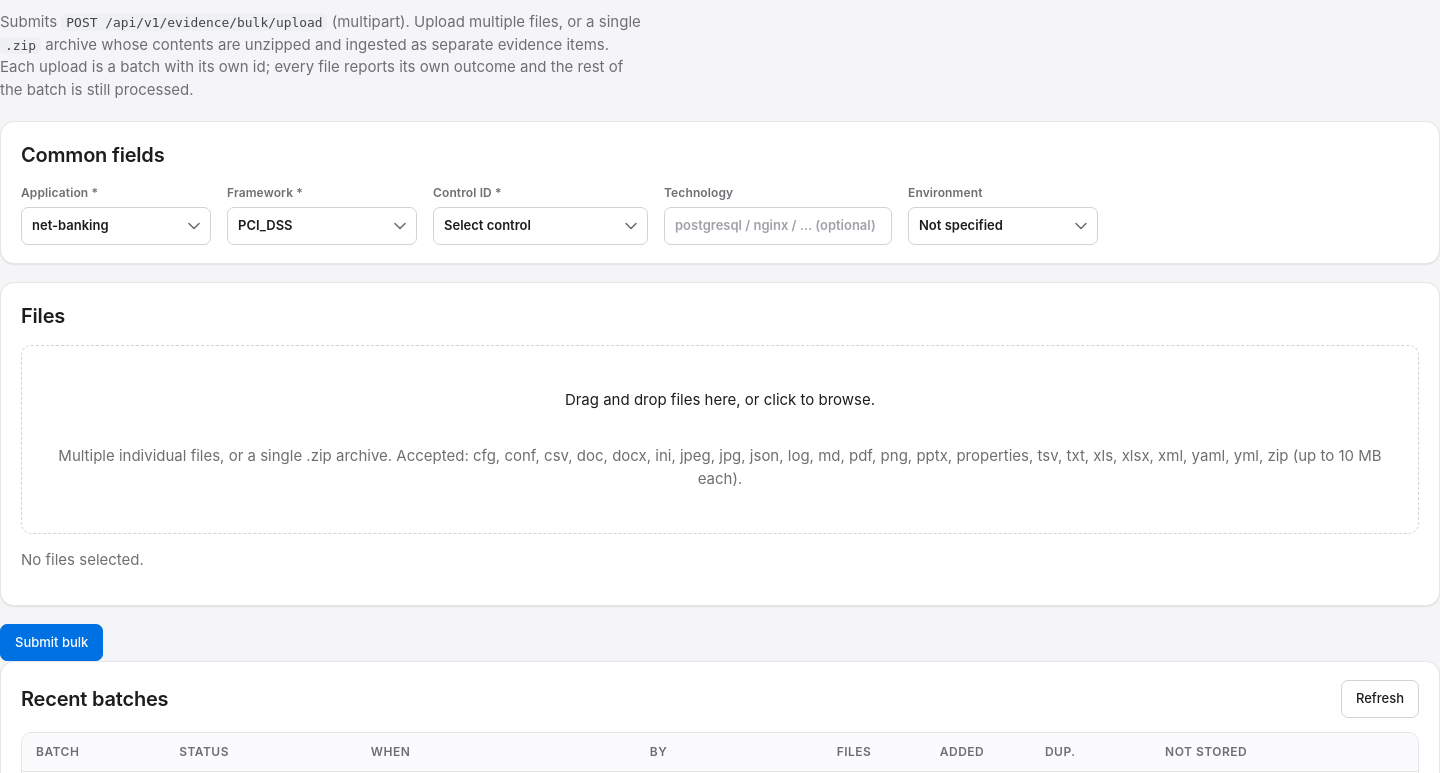
it: BulkUpload › rejects an empty submission
The width and height of the screenshot is (1440, 773).
Select "OS-SSH-ROOT-LOGIN" in the dropdown labelled "Control ID" at coordinates (540, 226), box [433,207,648,244]
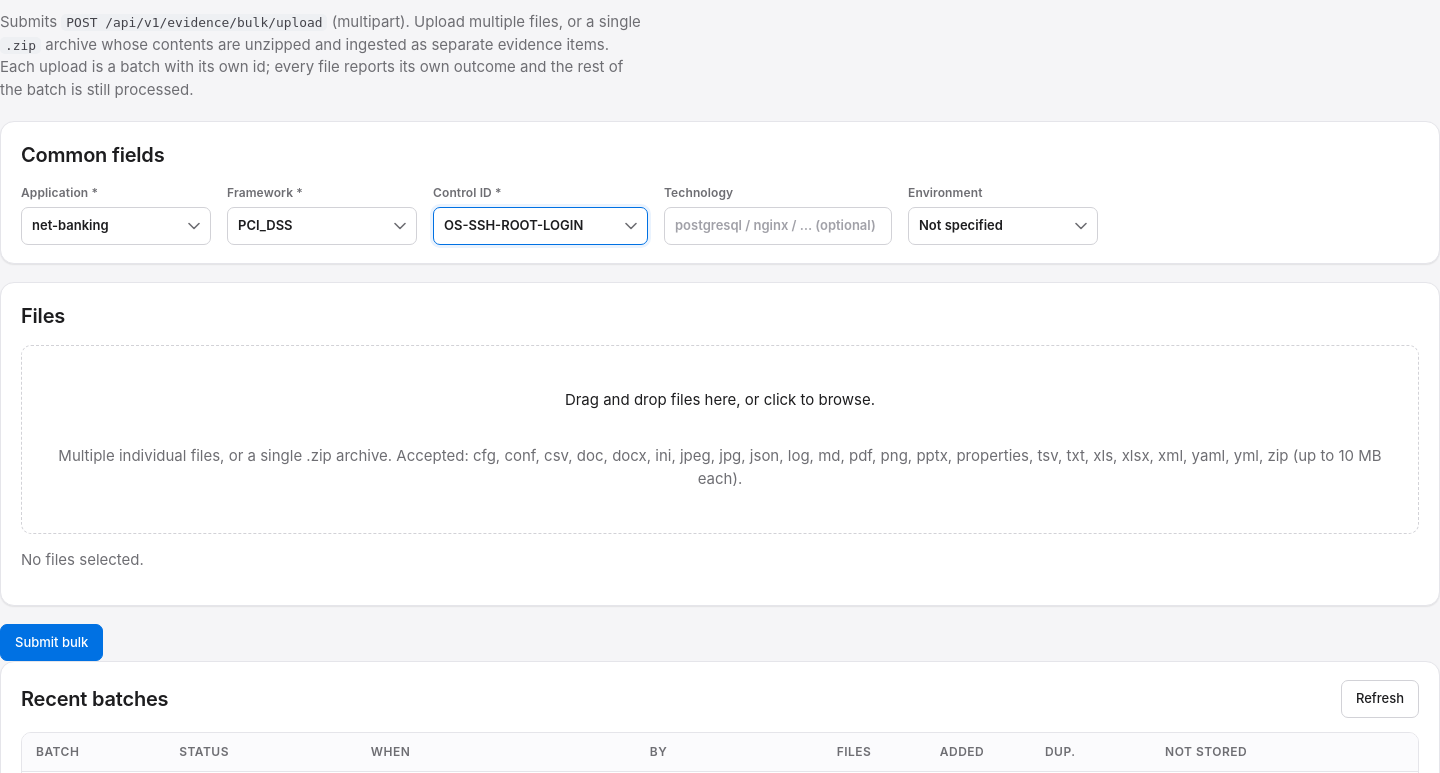
Click the button "Submit bulk".
click(52, 642)  # box [0,624,103,661]
(page scrolled)
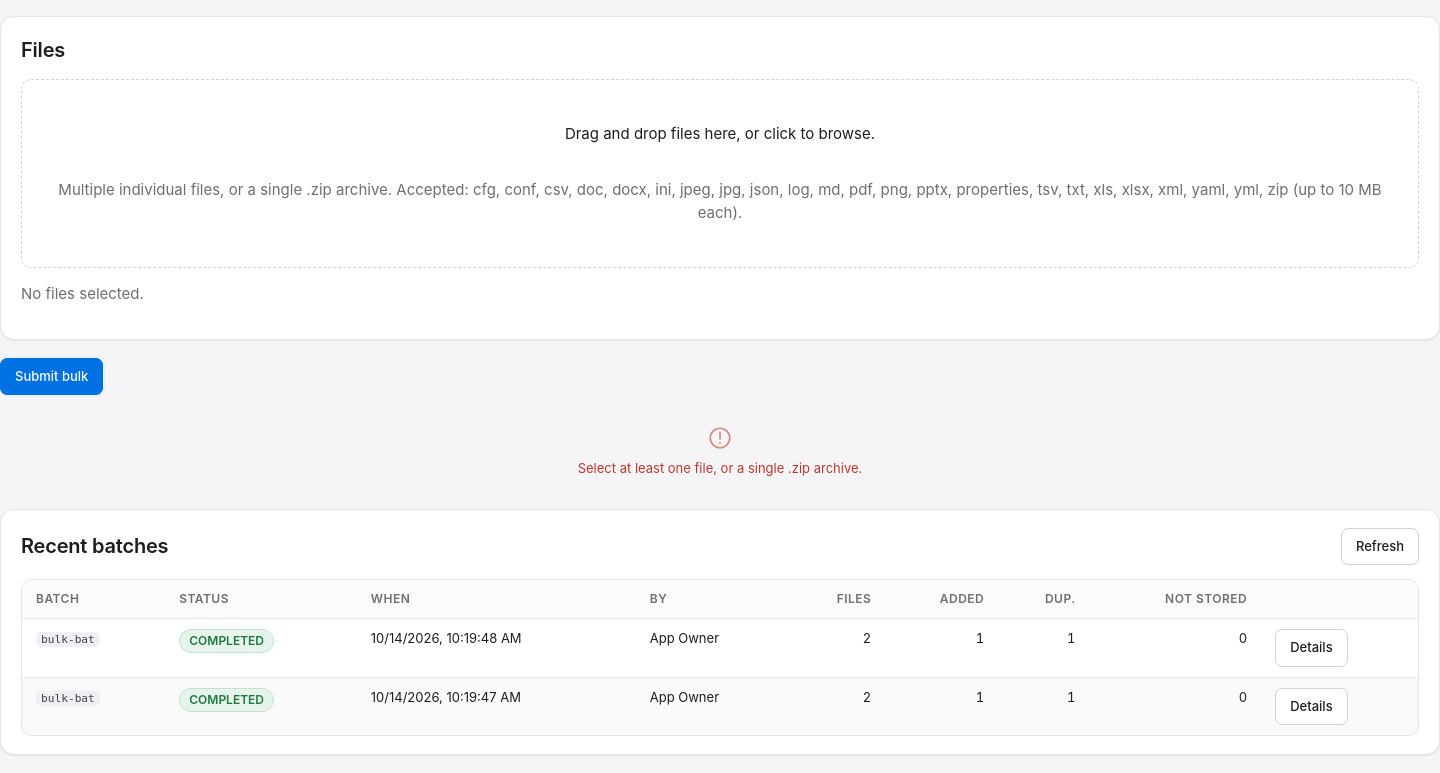
Check: the message shows "Select at least one file", box [578,460,862,476]
